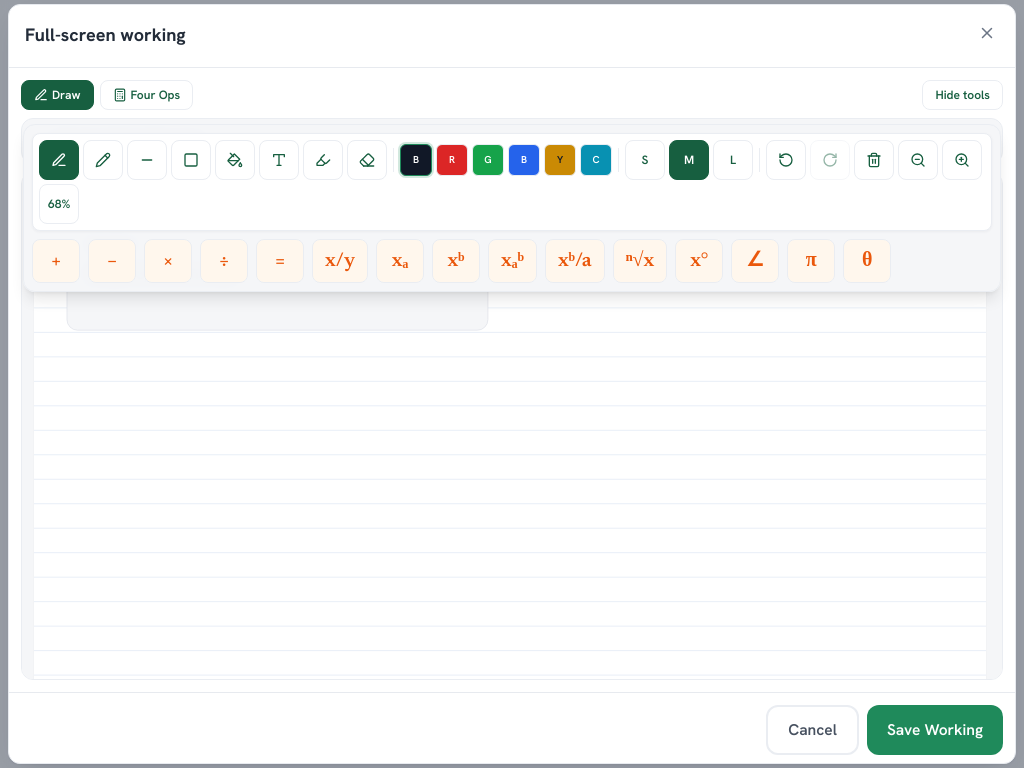
Test: FullScreenWorkingMode › clears strokes without removing the worksheet question
expect the text "Shade 3/5 of the bar." is shown: met, box top-left (56, 130), bottom-right (206, 151)
Click the button named "Clear" at (874, 160), box top-left (854, 140), bottom-right (894, 180)
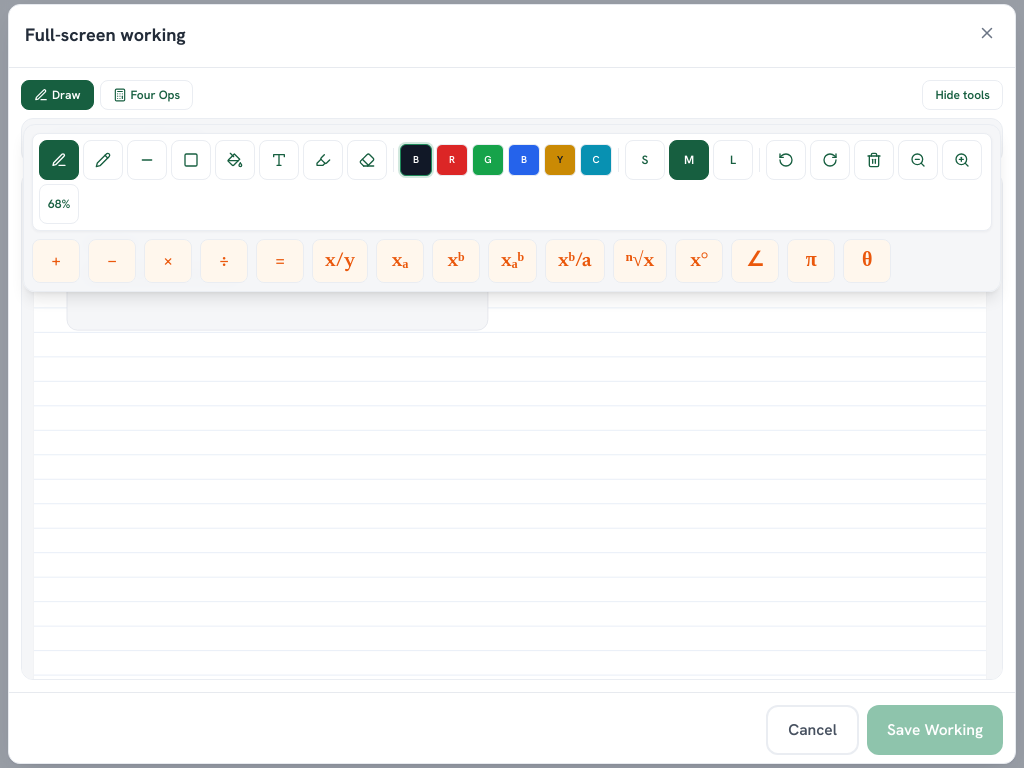
expect the text "Shade 3/5 of the bar." is shown: met, box top-left (56, 130), bottom-right (206, 151)
expect the button "Save Working" is disabled: met, box top-left (867, 705), bottom-right (1003, 755)
